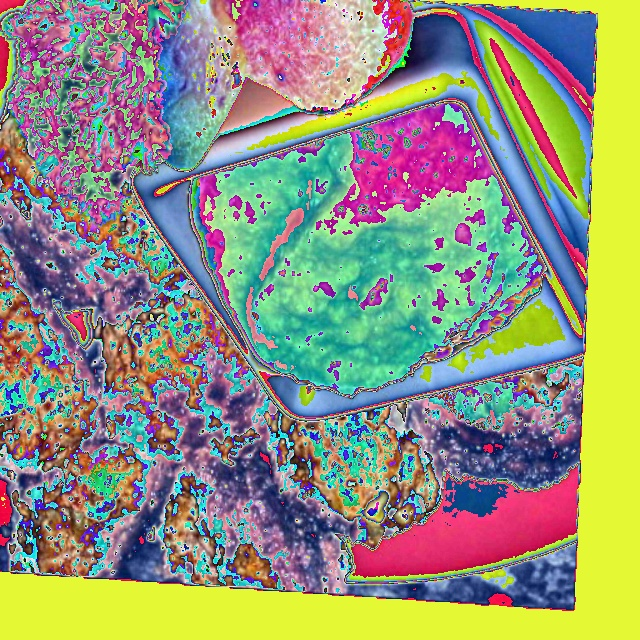background: (0, 0, 584, 595), (188, 102, 547, 398)
